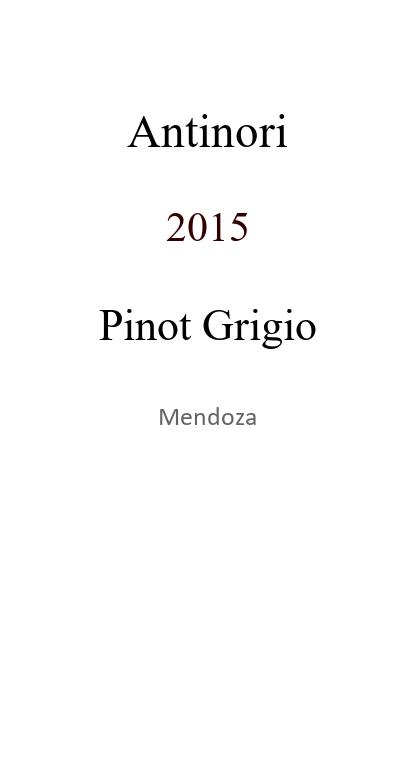brand: (127, 105, 288, 138)
region: (158, 405, 257, 423)
variety: (99, 300, 317, 340)
vintage: (166, 203, 250, 231)
